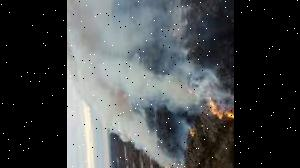fire: (202, 87, 234, 122)
